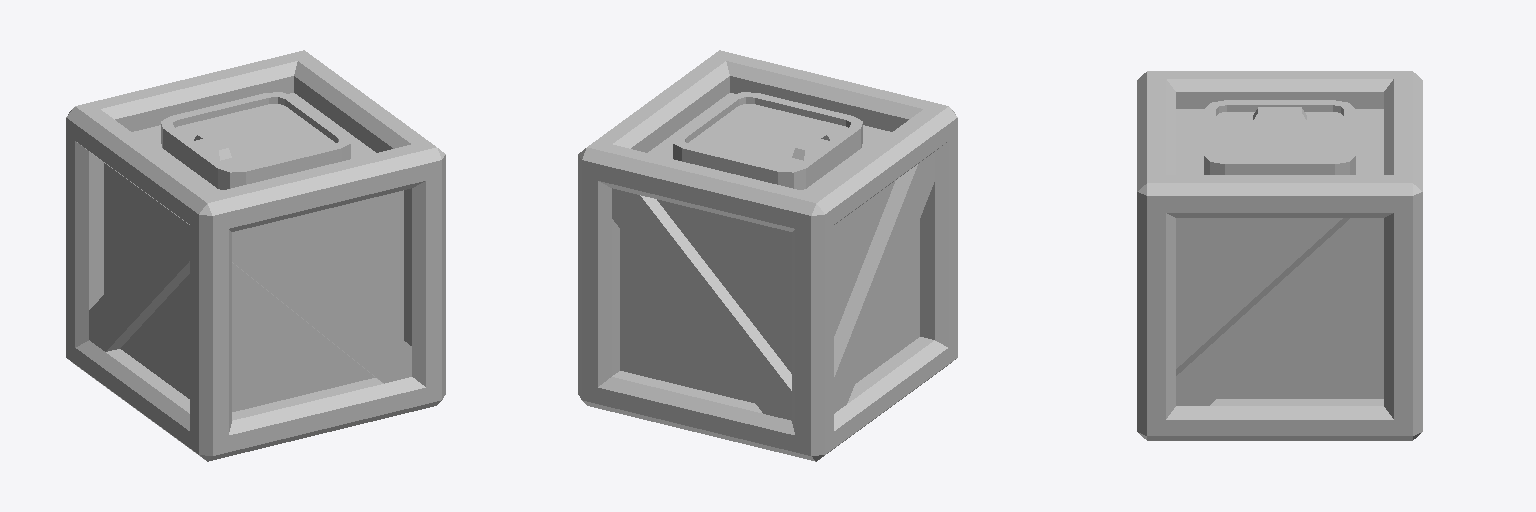
The model's file is crate2TP.obj.
3 views of the same model, side by side, from view 1: azimuth 30°, elevation 25°; view 2: azimuth 150°, elevation 25°; view 3: azimuth 270°, elevation 25° (orthographic).
Parts seen in each view (by area): view 1: Crate_Cube; view 2: Crate_Cube; view 3: Crate_Cube.
Part boxes in pixels (bbox=[...]): Crate_Cube: bbox=[66, 50, 445, 461]; Crate_Cube: bbox=[578, 50, 957, 461]; Crate_Cube: bbox=[1137, 71, 1422, 440].
Bounding box in the file's own units: 2 × 2 × 2.